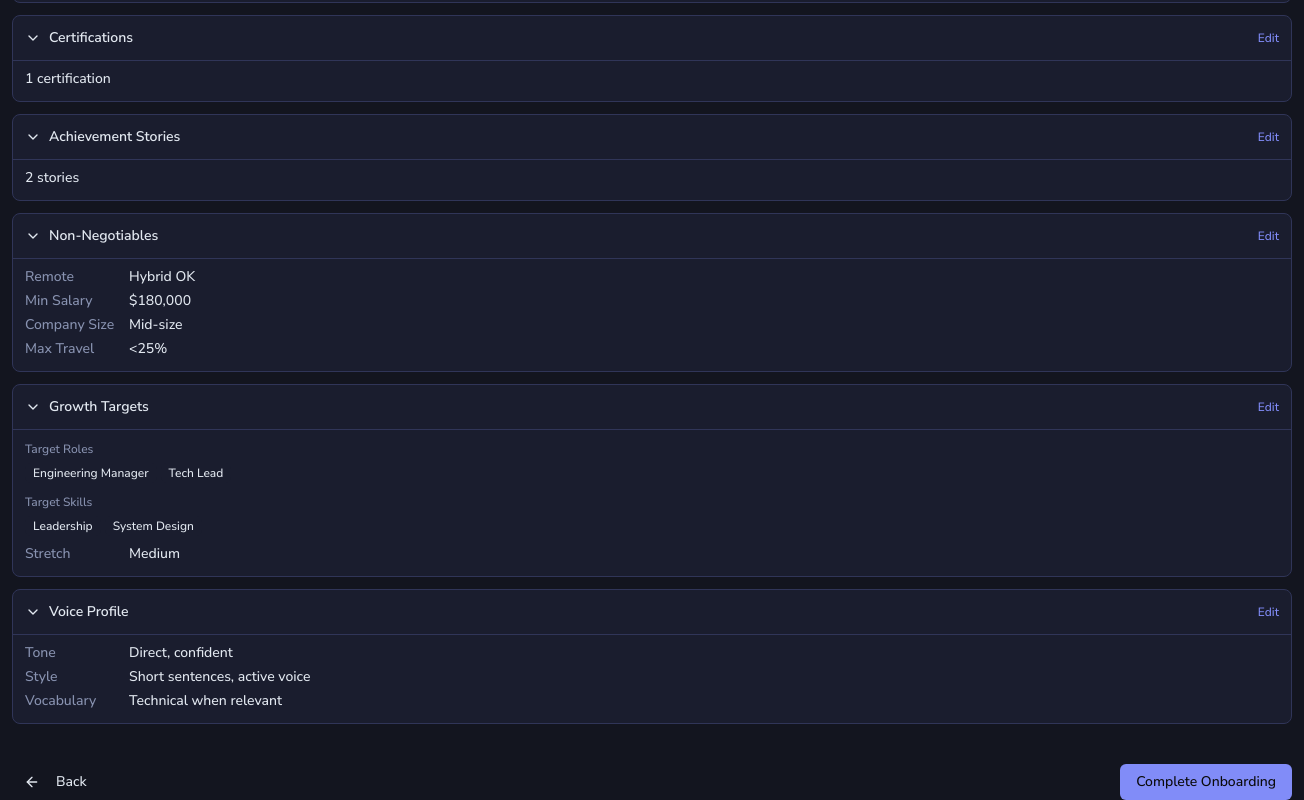
Test: ReviewStep › navigation › shows error and does not redirect when completeOnboarding fails
(page scrolled)
Click the button with test id "confirm-button": point(1206, 782) [1120, 764, 1292, 799]
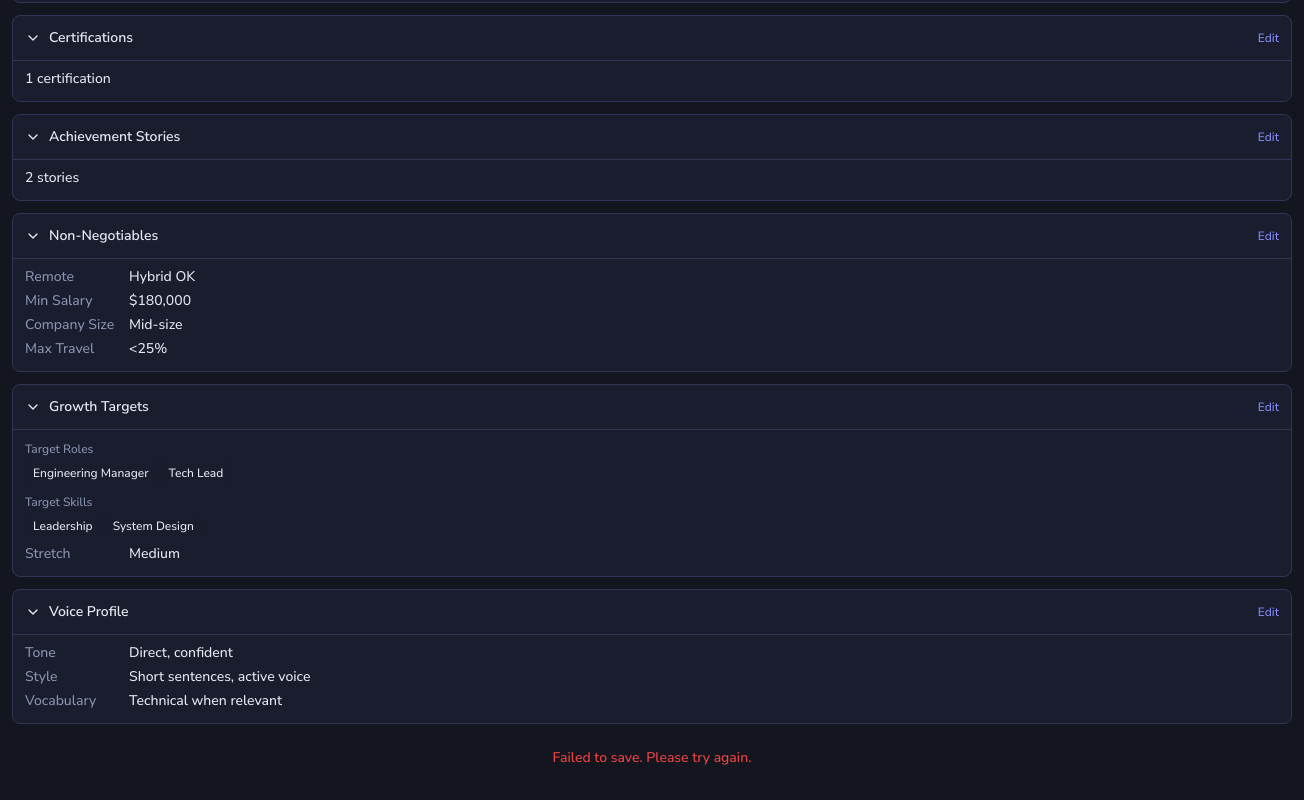
Now the message "Failed to save. Please try again." is shown, box [553, 748, 752, 767]
